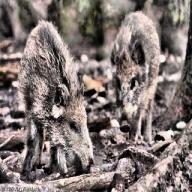boar: (16, 19, 95, 180), (109, 10, 161, 145)
